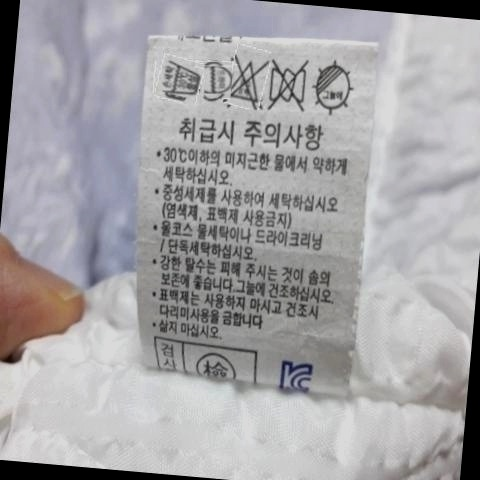DN_wring: (269, 59, 312, 109)
dry_clean: (201, 62, 231, 96)
hand_wash: (159, 56, 203, 98)
non_chlorine_bleach: (230, 55, 265, 105)
shade_dry: (312, 60, 357, 116)
